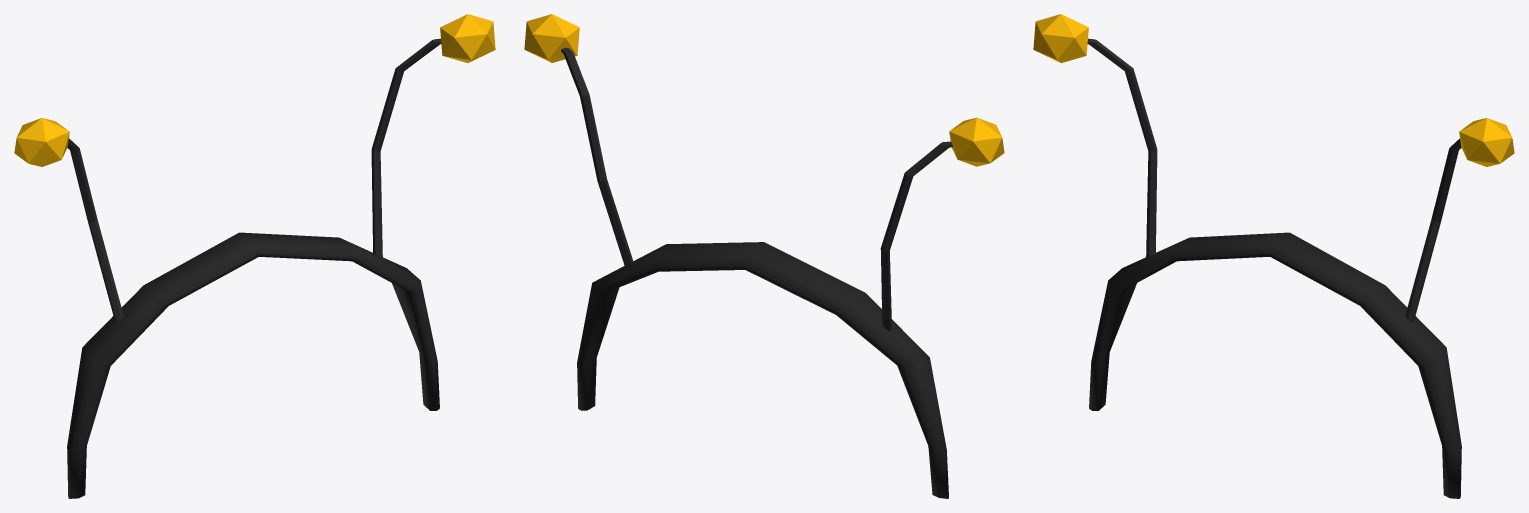
Rendered from Tiara_Bee.glb.
3 renders of one model, left to right at view 1: azimuth 30°, elevation 25°; view 2: azimuth 150°, elevation 25°; view 3: azimuth 330°, elevation 25°, orthographic.
Parts seen in each view (by area): view 1: Tiara_Bee; view 2: Tiara_Bee; view 3: Tiara_Bee.
Part boxes in pixels (x1,y1,x2,y2): Tiara_Bee: [14, 14, 495, 498]; Tiara_Bee: [524, 14, 1004, 498]; Tiara_Bee: [1033, 14, 1514, 498].
Size of what is drawn, in the model's own units: 1.08 by 0.8381 by 0.1349.
1 material, 1 textured.
